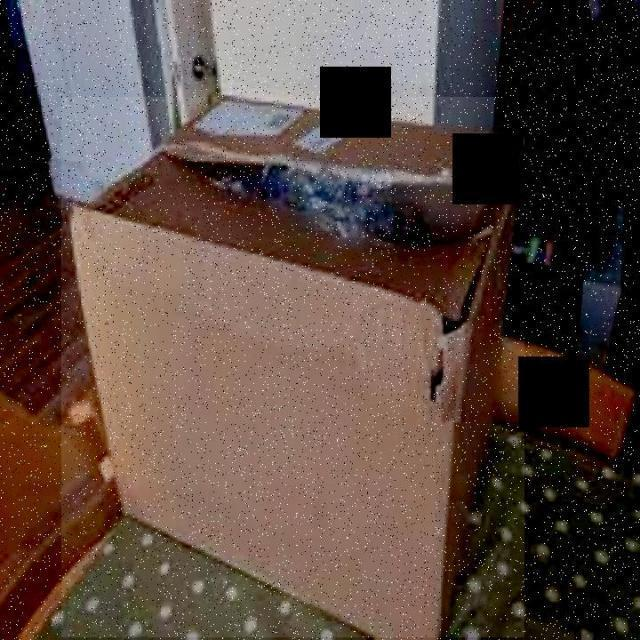box: (62, 97, 524, 638)
